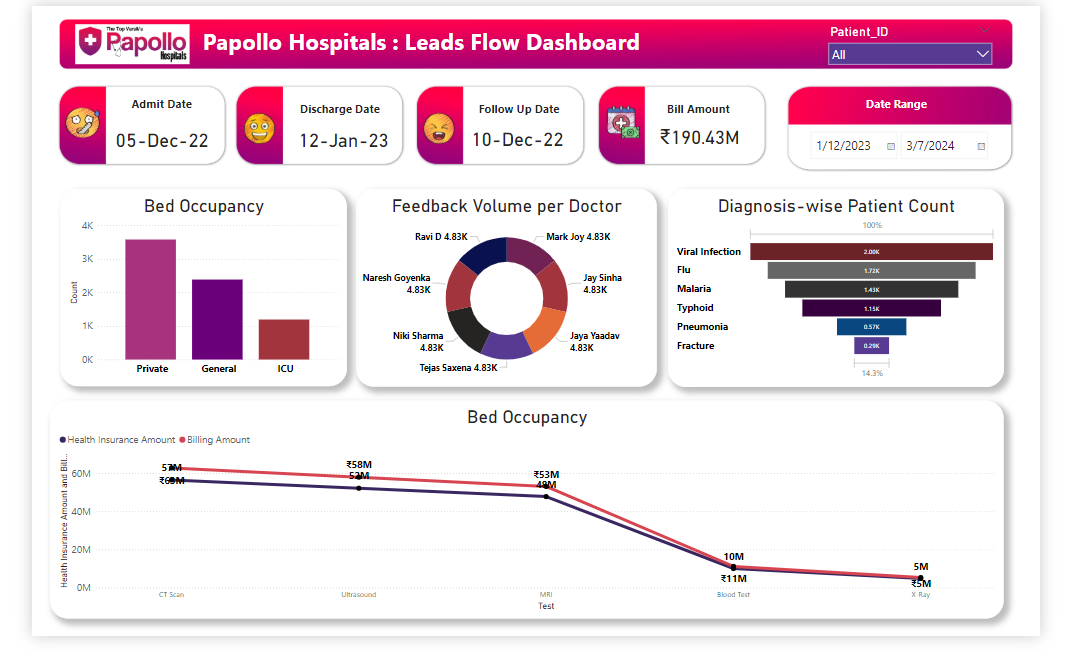

What the dashboard file says about the page in this screenshot:
{"tool":"powerbi","page":{"name":"Page 2","canvas":[1680,1050],"ordinal":0},"visuals":[{"type":"textbox","box":[280,27.1,755.7,74.3],"z":0},{"type":"image","box":[2636.7,100,623.3,150],"z":1000},{"type":"slicer","fields":{"Values":["Sheet1.Patient_ID"]},"box":[2400,373.3,793.3,420],"z":2000},{"type":"card","fields":{"Values":["Min(Sheet1.Admit_Date)"]},"box":[437.6,198.8,162.9,42.8],"z":3000},{"type":"card","fields":{"Values":["Min(Sheet1.Discharge_Date)"]},"box":[129.8,198.8,172.6,42.8],"z":4000},{"type":"card","fields":{"Values":["Min(Sheet1.Followup Date)"]},"box":[724.3,198.6,167.1,42.9],"z":5000},{"type":"textbox","box":[152.9,145.7,127.1,57.1],"z":6000},{"type":"textbox","box":[437.1,151.4,151.4,37.1],"z":7000},{"type":"textbox","box":[732.9,151.4,158.6,37.1],"z":8000},{"type":"textbox","box":[1035.7,151.4,151.4,37.1],"z":9000},{"type":"card","fields":{"Values":["Sum(Sheet1.Billing Amount)"]},"box":[1031.4,194.3,158.6,42.9],"z":10000},{"type":"image","box":[50,157.1,68.6,74.3],"z":11000},{"type":"image","box":[348.6,172.9,62.9,62.9],"z":12000},{"type":"image","box":[640,171.4,77.1,62.9],"z":13000},{"type":"image","box":[951.4,158.6,65.7,71.4],"z":14000},{"type":"columnChart","title":"Bed Occupancy","fields":{"Category":["Sheet1.Bed_Occupancy"],"Y":["CountNonNull(Sheet1.Bed_Occupancy)"]},"box":[47.1,305.7,477.1,328.6],"z":15000},{"type":"donutChart","title":"Feedback Volume per Doctor","fields":{"Category":["Sheet1.Doctor"],"Y":["Sum(Sheet1.Feedback)"]},"box":[540.2,305.2,501,329.5],"z":16000},{"type":"funnel","title":"Diagnosis-wise Patient Count","fields":{"Category":["Sheet1.Diagnosis"],"Y":["CountNonNull(Sheet1.Diagnosis)"]},"box":[1060,305.7,560,330],"z":17000},{"type":"image","box":[30,24.3,274.3,77.1],"z":18000},{"type":"lineChart","title":"Bed Occupancy","fields":{"Y":["Sum(Sheet1.Health Insurance Amount)","Sum(Sheet1.Billing Amount)"],"Category":["Sheet1.Test"]},"box":[31.1,656.3,1589.5,363.3],"z":19000},{"type":"slicer","fields":{"Values":["Sheet1.Admit_Date"]},"box":[1284.3,201.2,360.6,68.9],"z":20000},{"type":"slicer","fields":{"Values":["Sheet1.Patient_ID"]},"box":[1317.1,24.3,292.9,82.9],"z":21000},{"type":"textbox","box":[1365.7,145.7,151.4,37.1],"z":22000}]}

Visuals, with their boxes in screenshot pixels (x1, y1, x2, y2), scaled from the page's 1680x1050 canvas onto the 1071x664 screenshot:
textbox: {"left": 178, "top": 17, "right": 660, "bottom": 64}
card - Min(Sheet1.Admit_Date): {"left": 279, "top": 126, "right": 383, "bottom": 153}
card - Min(Sheet1.Discharge_Date): {"left": 83, "top": 126, "right": 193, "bottom": 153}
card - Min(Sheet1.Followup Date): {"left": 462, "top": 126, "right": 568, "bottom": 153}
textbox: {"left": 97, "top": 92, "right": 178, "bottom": 128}
textbox: {"left": 279, "top": 96, "right": 375, "bottom": 119}
textbox: {"left": 467, "top": 96, "right": 568, "bottom": 119}
textbox: {"left": 660, "top": 96, "right": 757, "bottom": 119}
card - Sum(Sheet1.Billing Amount): {"left": 658, "top": 123, "right": 759, "bottom": 150}
image: {"left": 32, "top": 99, "right": 76, "bottom": 146}
image: {"left": 222, "top": 109, "right": 262, "bottom": 149}
image: {"left": 408, "top": 108, "right": 457, "bottom": 148}
image: {"left": 607, "top": 100, "right": 648, "bottom": 145}
"Bed Occupancy" columnChart: {"left": 30, "top": 193, "right": 334, "bottom": 401}
"Feedback Volume per Doctor" donutChart: {"left": 344, "top": 193, "right": 664, "bottom": 401}
"Diagnosis-wise Patient Count" funnel: {"left": 676, "top": 193, "right": 1033, "bottom": 402}
image: {"left": 19, "top": 15, "right": 194, "bottom": 64}
"Bed Occupancy" lineChart: {"left": 20, "top": 415, "right": 1033, "bottom": 645}
slicer - Sheet1.Admit_Date: {"left": 819, "top": 127, "right": 1049, "bottom": 171}
slicer - Sheet1.Patient_ID: {"left": 840, "top": 15, "right": 1026, "bottom": 68}
textbox: {"left": 871, "top": 92, "right": 967, "bottom": 116}
